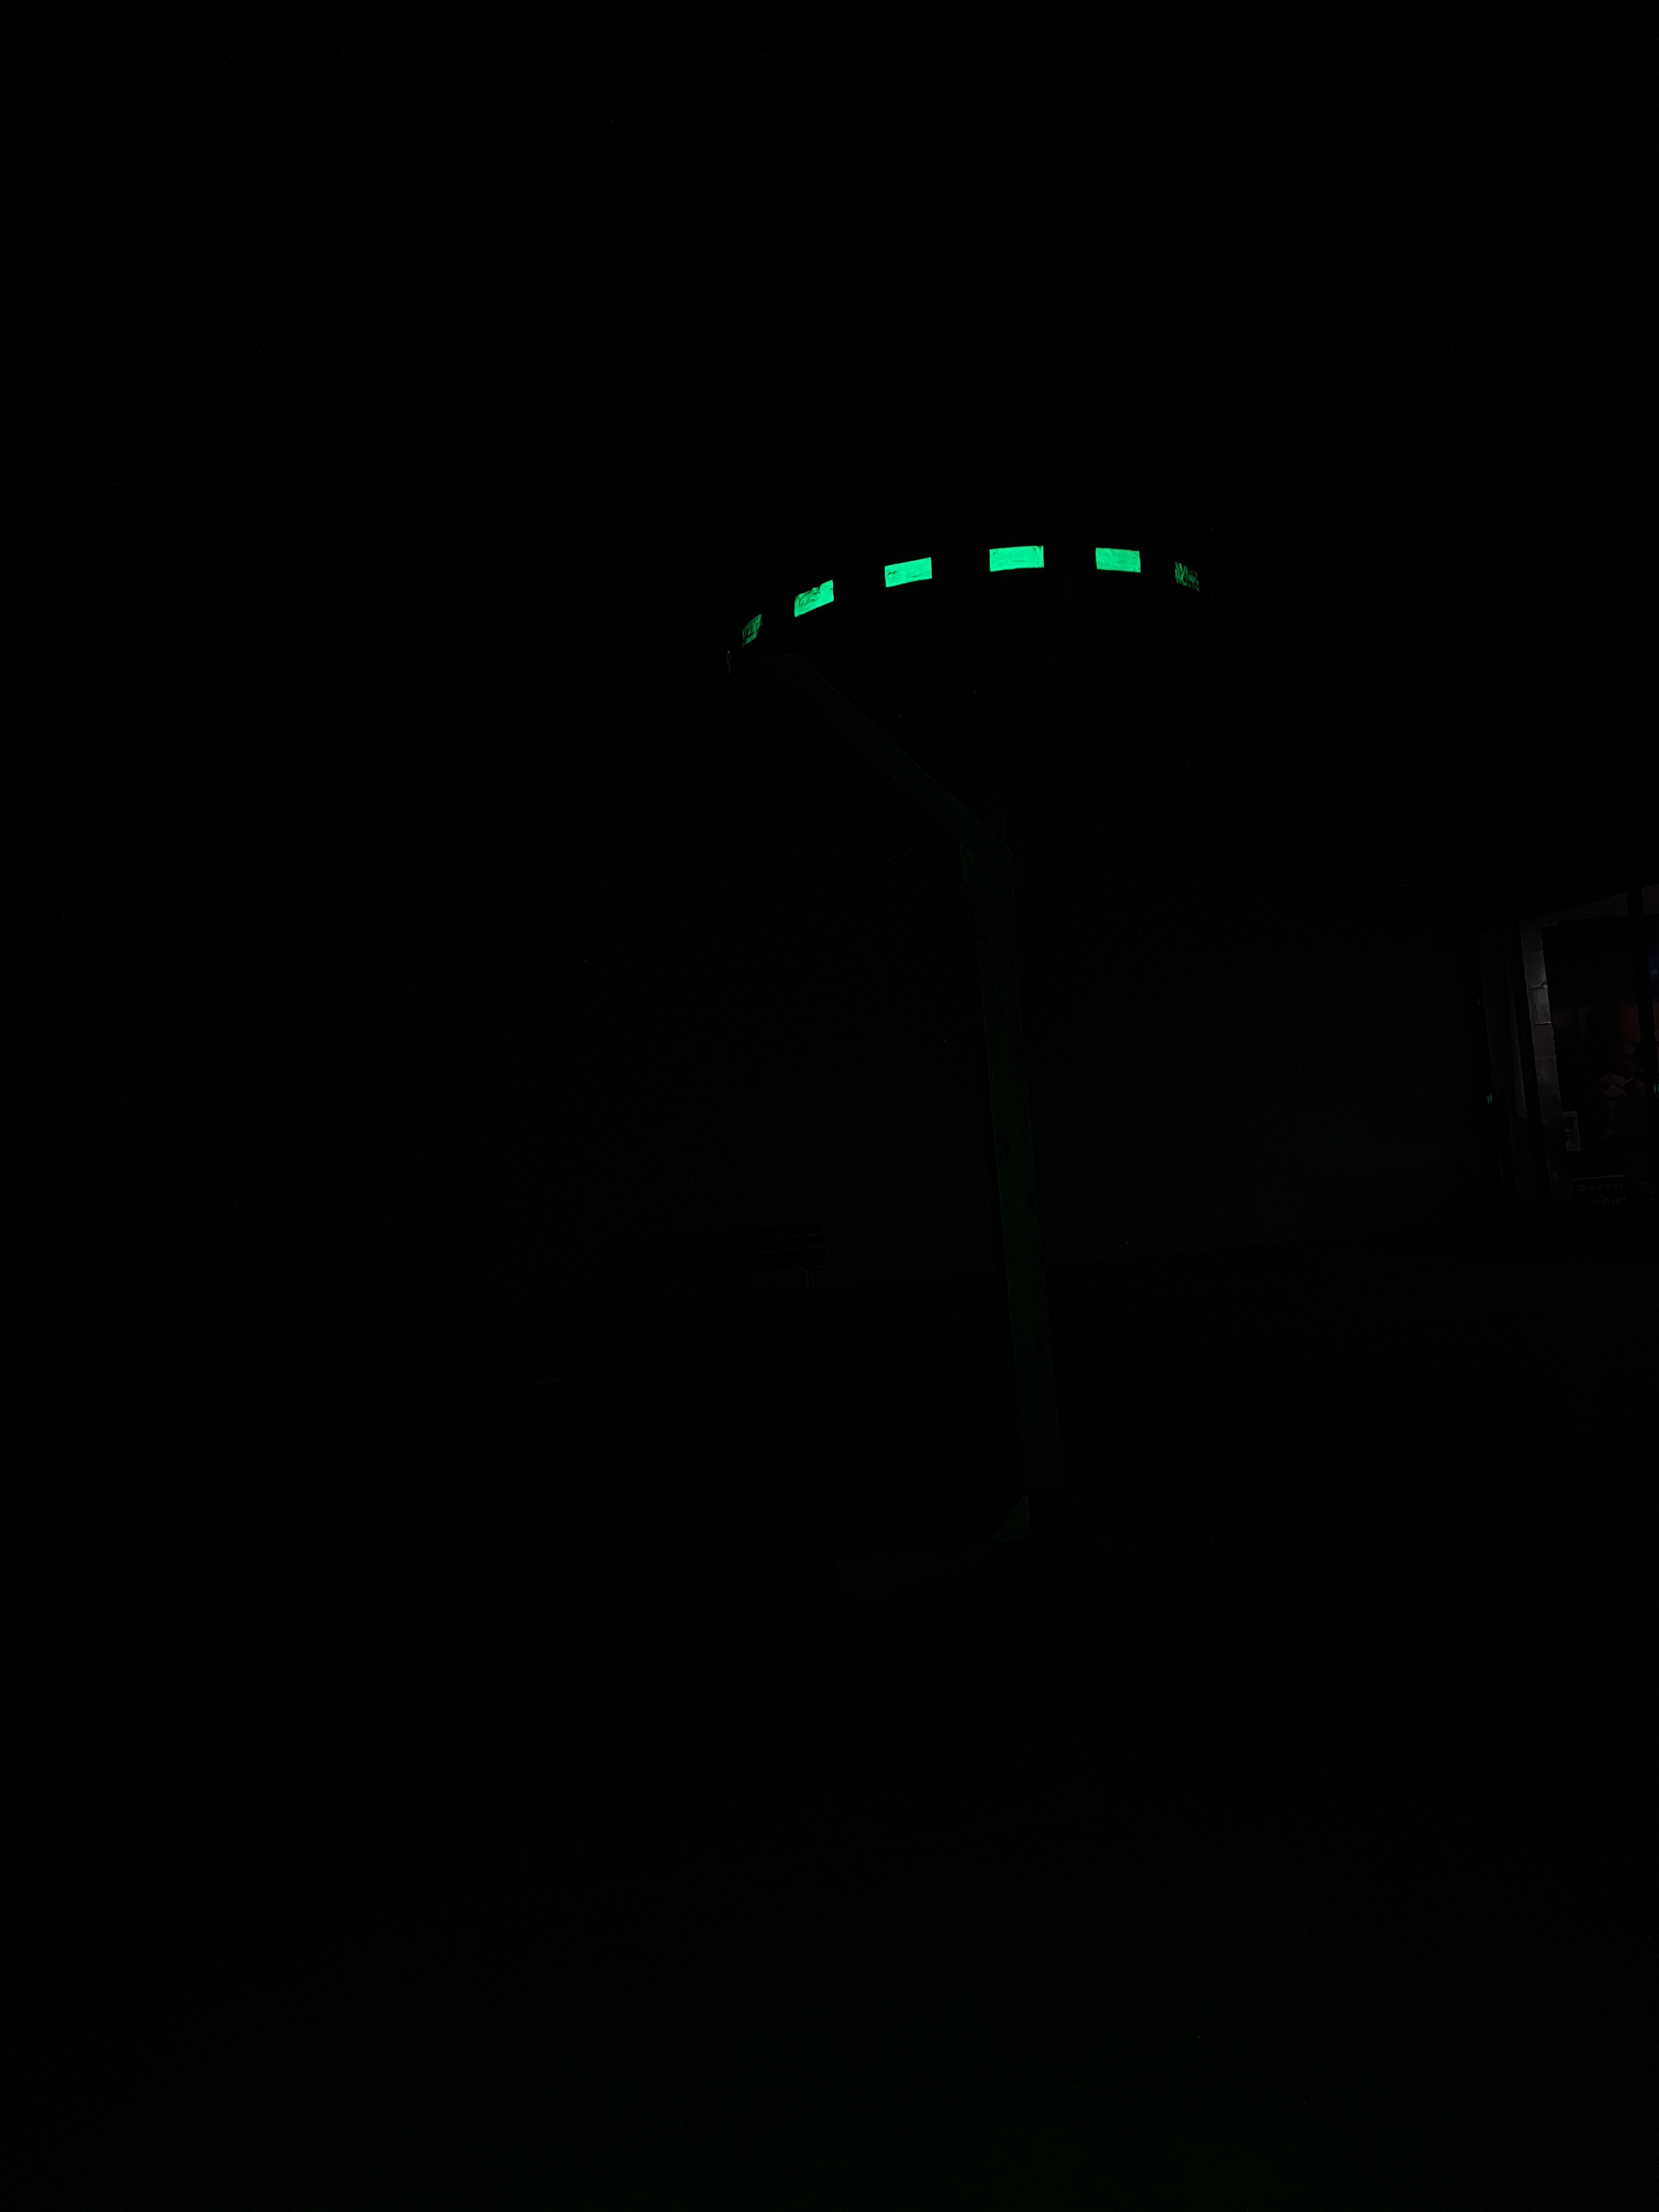hoop: (720, 507, 1232, 664)
